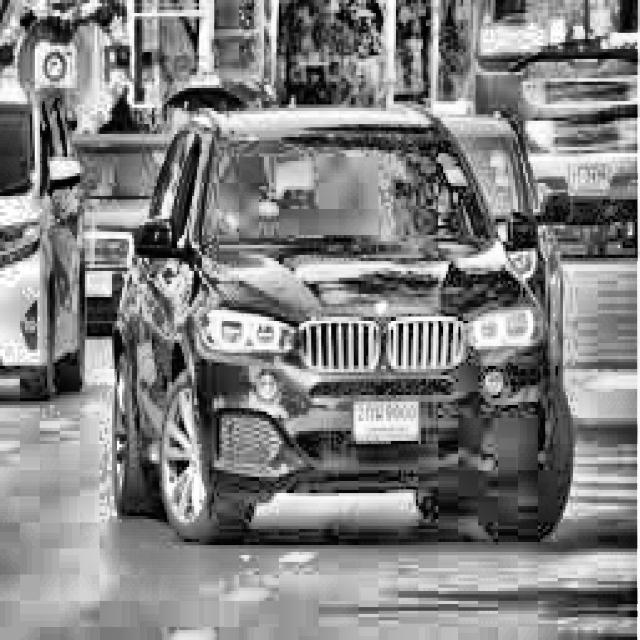license-plate: (349, 392, 422, 445), (568, 162, 612, 196)
